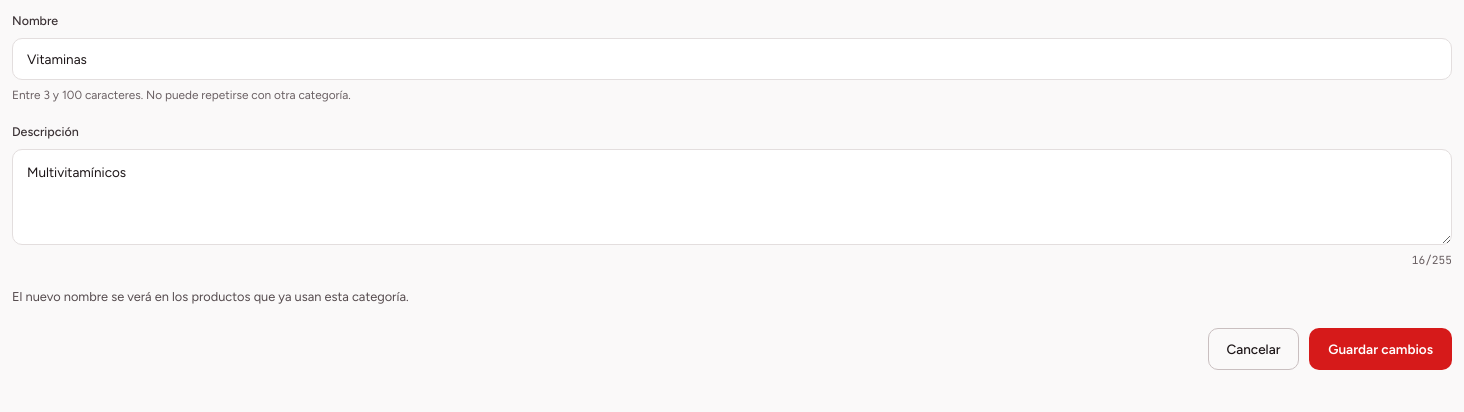
Test: EditCategoryForm › blocks a name used by another category, ignoring case
This screenshot has width=1464, height=412.
Replace the text in the field labelled "Nombre" with "proteínas". click: coordinates (732, 59)
box: [12,38,1452,80]
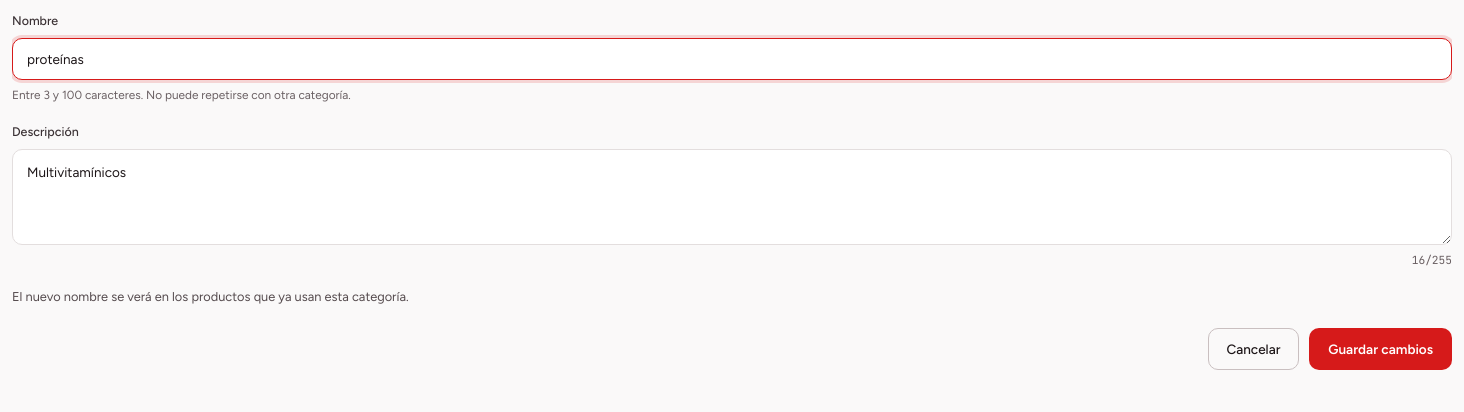
Click the button "Guardar cambios". click: coordinates (1381, 349)
box: [1309,328,1452,370]
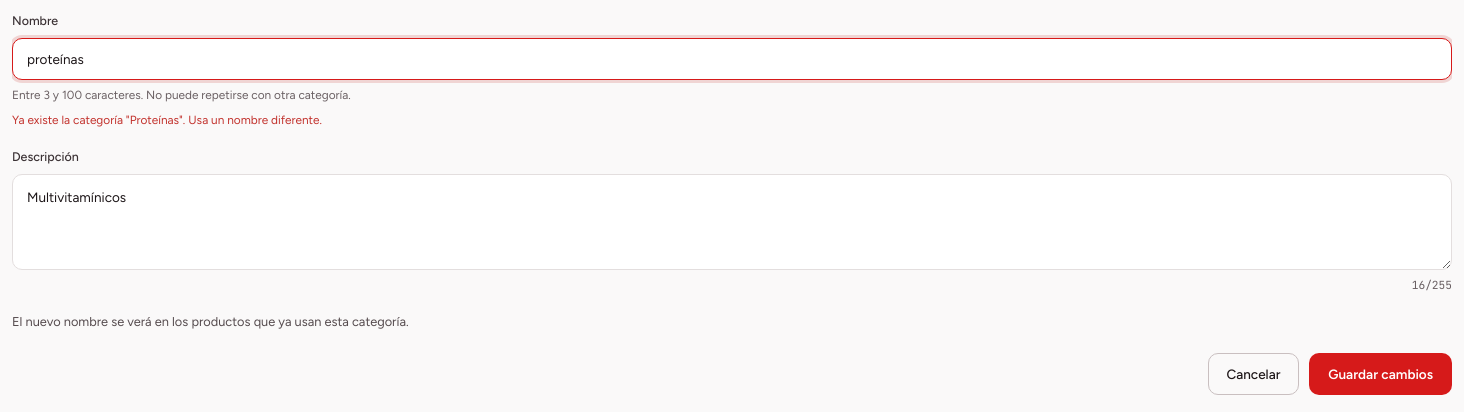
Now the text "Ya existe la categoría \"Proteínas\". Usa un nombre diferente." is shown, box [12,113,322,127]
